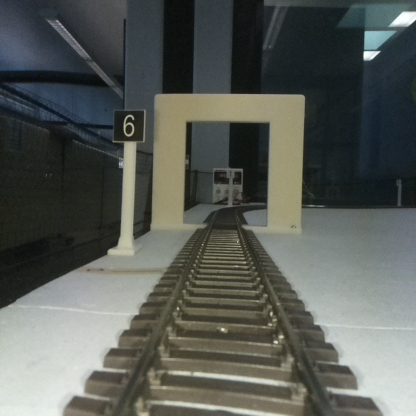black-info-6: (112, 110, 144, 251)
